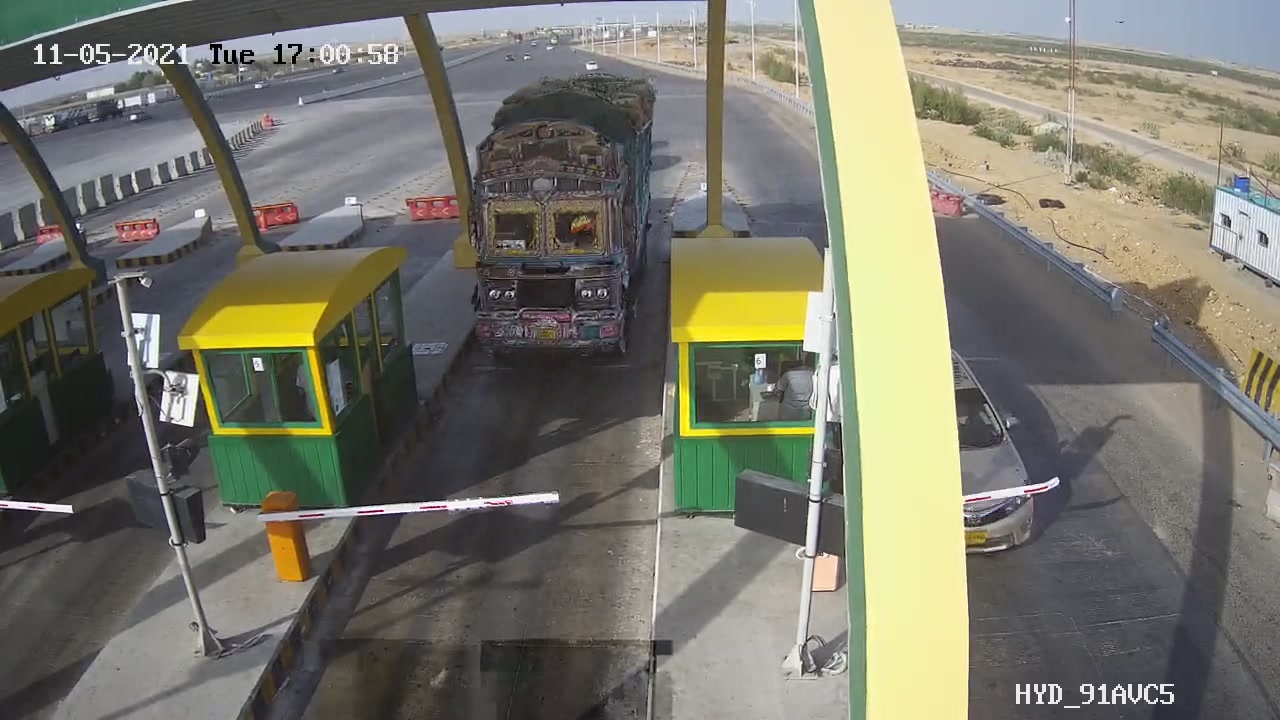F5: (446, 57, 681, 385)
